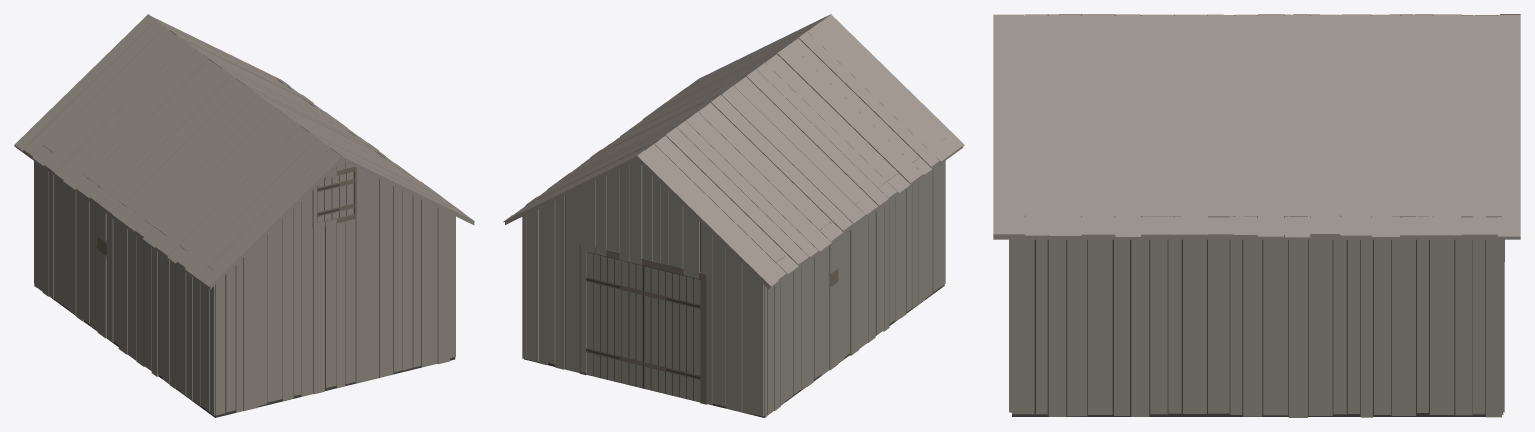
File: wabansia_doctors_barn__documented_1834.glb
3 views of the same model, side by side, from view 1: azimuth 30°, elevation 25°; view 2: azimuth 150°, elevation 25°; view 3: azimuth 270°, elevation 25° (orthographic). The views are drawn at different scales.
Visible parts, largest first — view 1: wabansia_doctors_barn__documented_1834; view 2: wabansia_doctors_barn__documented_1834; view 3: wabansia_doctors_barn__documented_1834.
Boxes of the visible parts, bbox=[...] form: wabansia_doctors_barn__documented_1834: bbox=[14, 14, 474, 417]; wabansia_doctors_barn__documented_1834: bbox=[503, 14, 964, 417]; wabansia_doctors_barn__documented_1834: bbox=[993, 14, 1520, 417].
Bounding box in the file's own units: 6.81 × 5.77 × 8.53.
